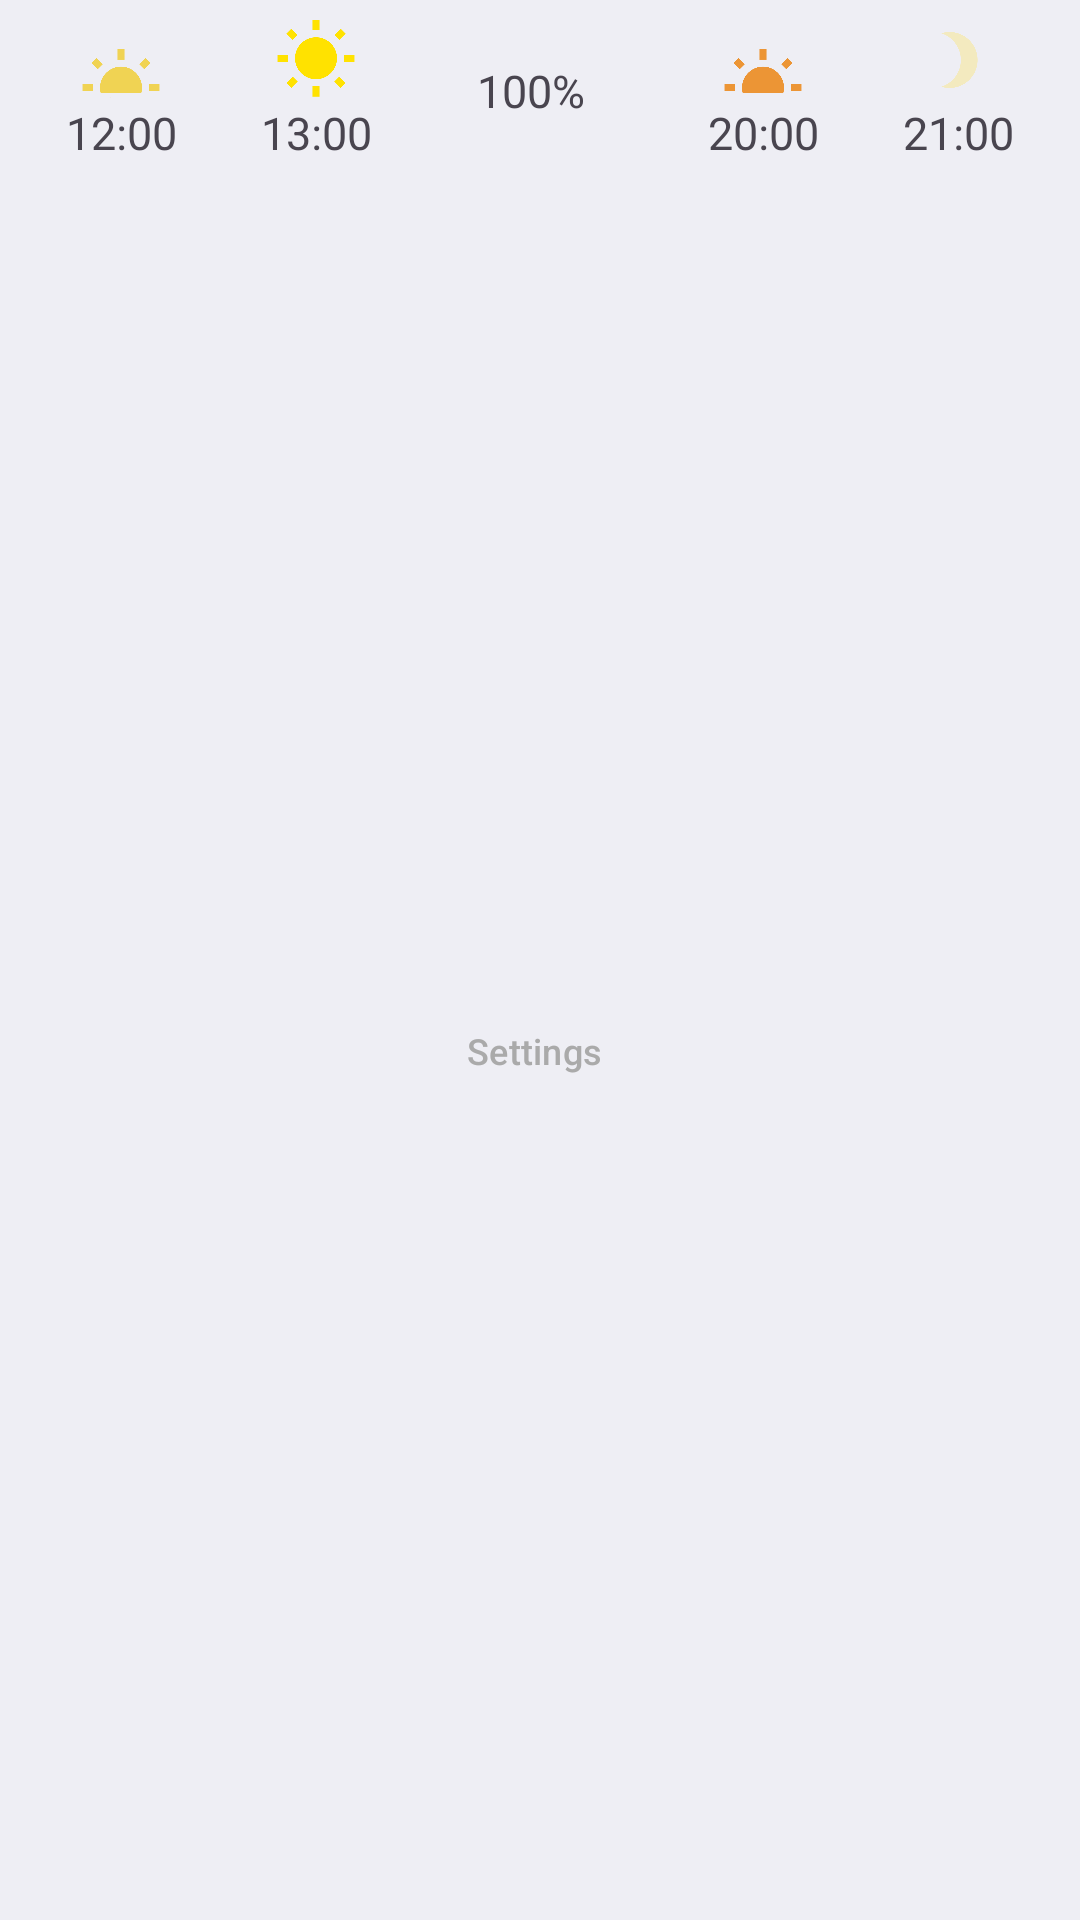

Where icons sit on this 1080*1920 app screen, as (x1, y1, x2, y2):
moon: (942, 32, 978, 88)
sun: (277, 20, 355, 97)
sunrise: (82, 49, 160, 93)
sunset: (724, 49, 802, 93)
